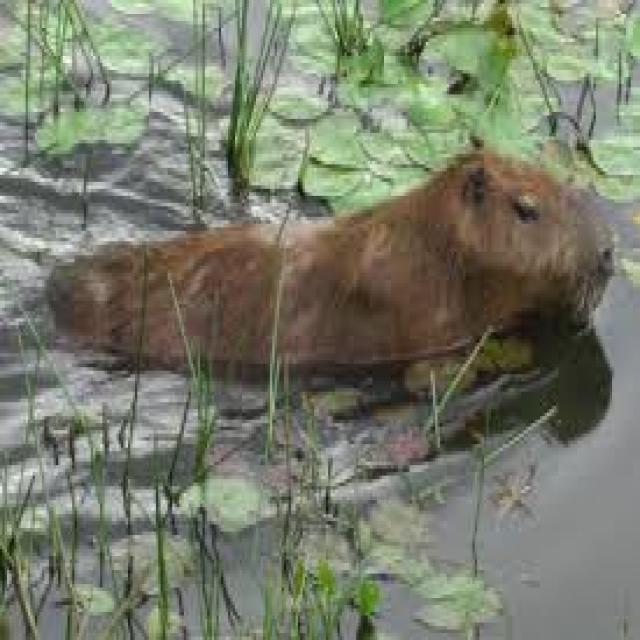capy: (47, 128, 616, 382)
